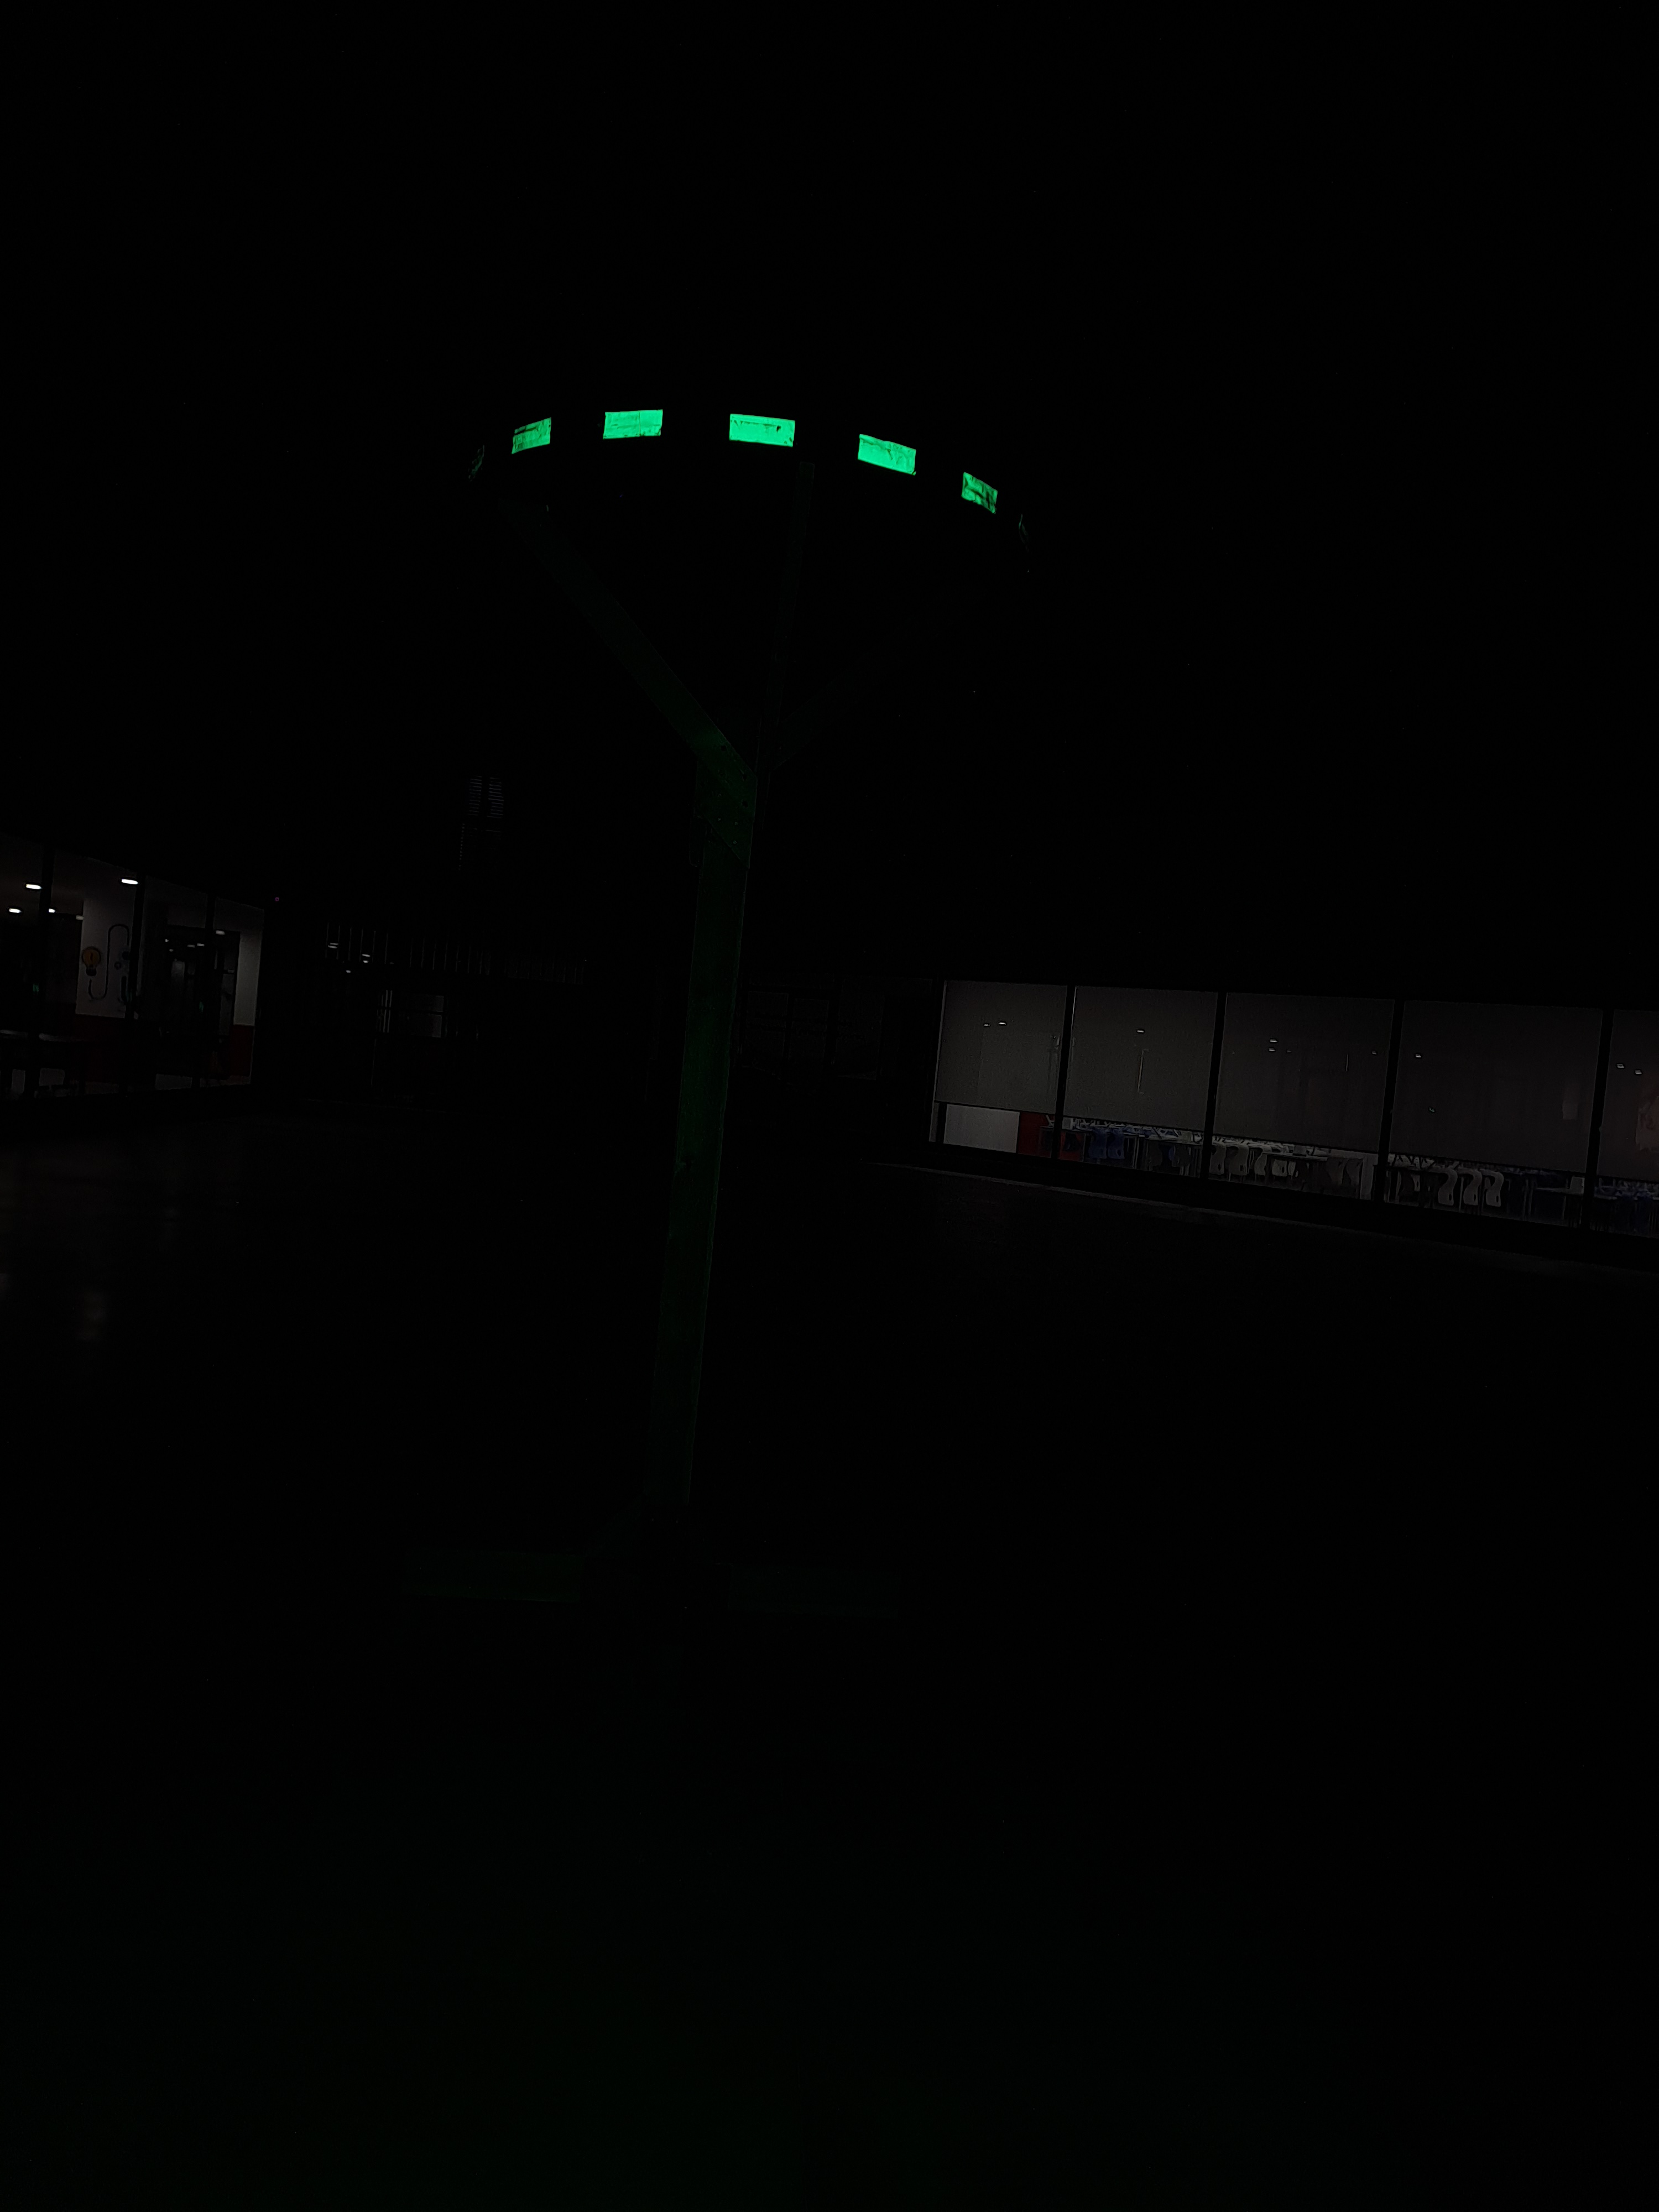hoop: (511, 397, 1004, 538)
